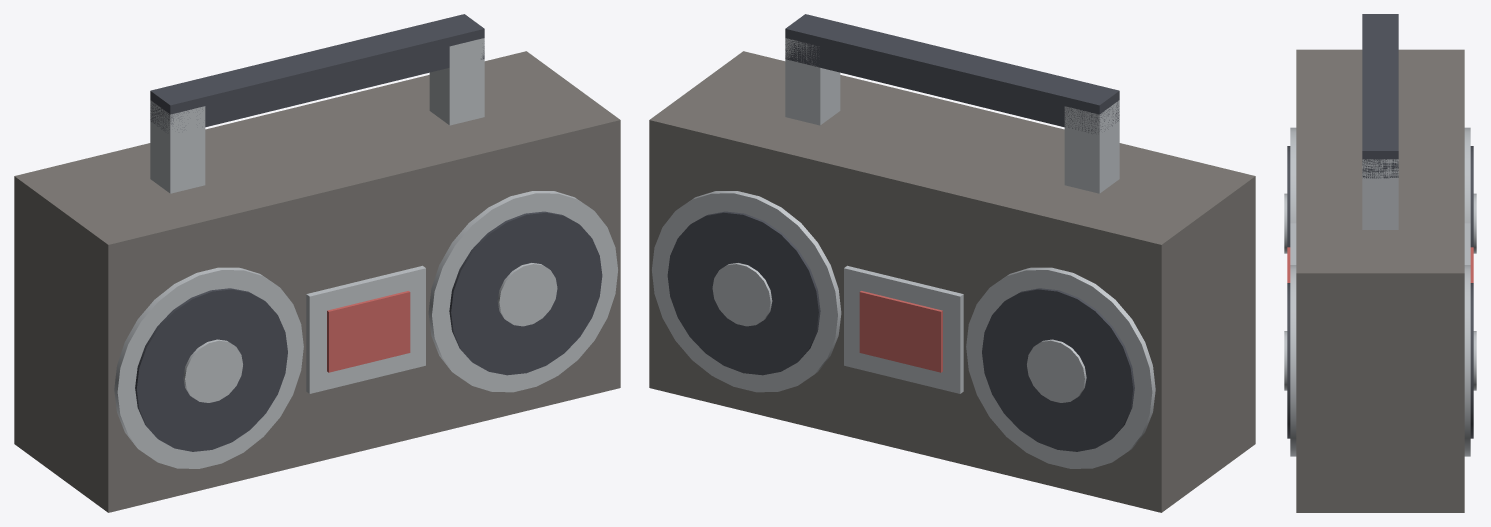
File: 12_boombox.glb
3 renders of one model, left to right at view 1: azimuth 30°, elevation 25°; view 2: azimuth 150°, elevation 25°; view 3: azimuth 270°, elevation 25°, orthographic. The views are drawn at different scales.
Parts seen in each view (by area): view 1: Boombox; view 2: Boombox; view 3: Boombox.
Boxes of the visible parts, x1,y1,x2,y2 form: Boombox: (14,14,620,512); Boombox: (649,14,1255,512); Boombox: (1284,14,1476,512).
Bounding box in the file's own units: 0.88 × 0.585 × 0.32.
